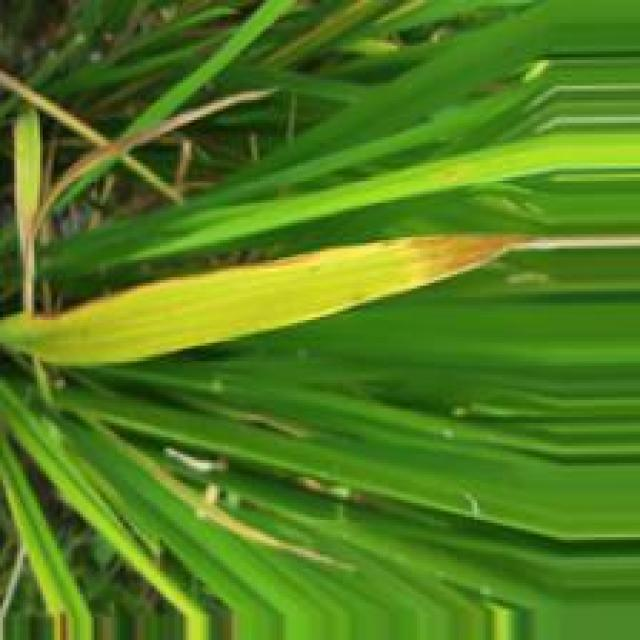Leaf_Scald: (405, 235, 543, 287)
